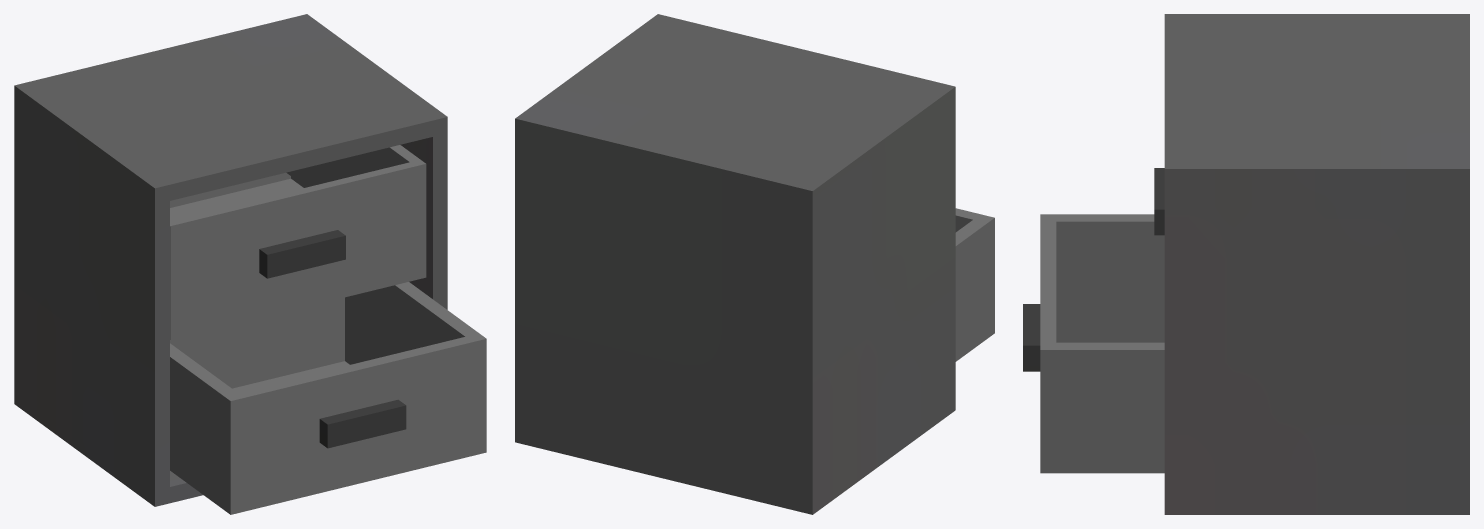
File: filing-cabinet--4.gltf
3 views of the same model, side by side, from view 1: azimuth 30°, elevation 25°; view 2: azimuth 150°, elevation 25°; view 3: azimuth 270°, elevation 25° (orthographic). The views are drawn at different scales.
Parts seen in each view (by area): view 1: Drawers3; view 2: Drawers3; view 3: Drawers3.
Boxes of the visible parts, x1,y1,x2,y2 form: Drawers3: (14,14,486,514); Drawers3: (515,14,994,514); Drawers3: (1023,14,1469,514).
Size of the model in its own units: 0.7696 by 0.8 by 0.9368.
1 material, 1 textured.
